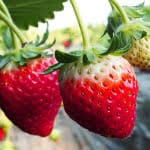ripe: (3, 38, 69, 140), (63, 55, 139, 139)
unripe: (113, 14, 150, 70)
